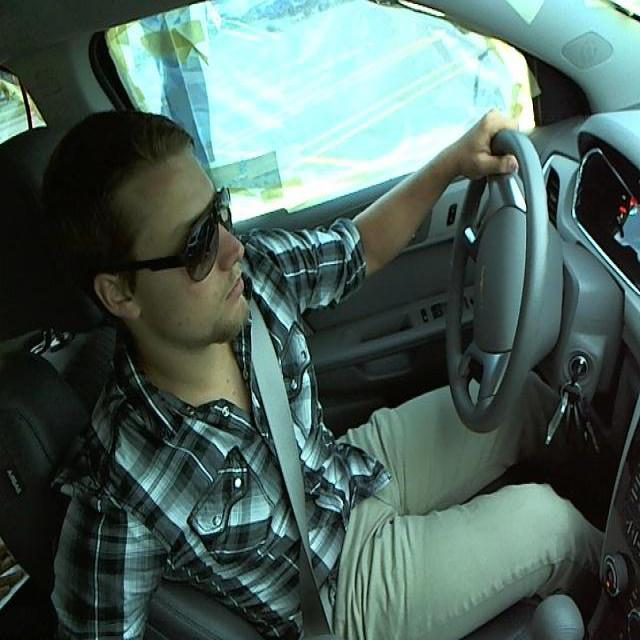seatbelt: (240, 347, 346, 636)
